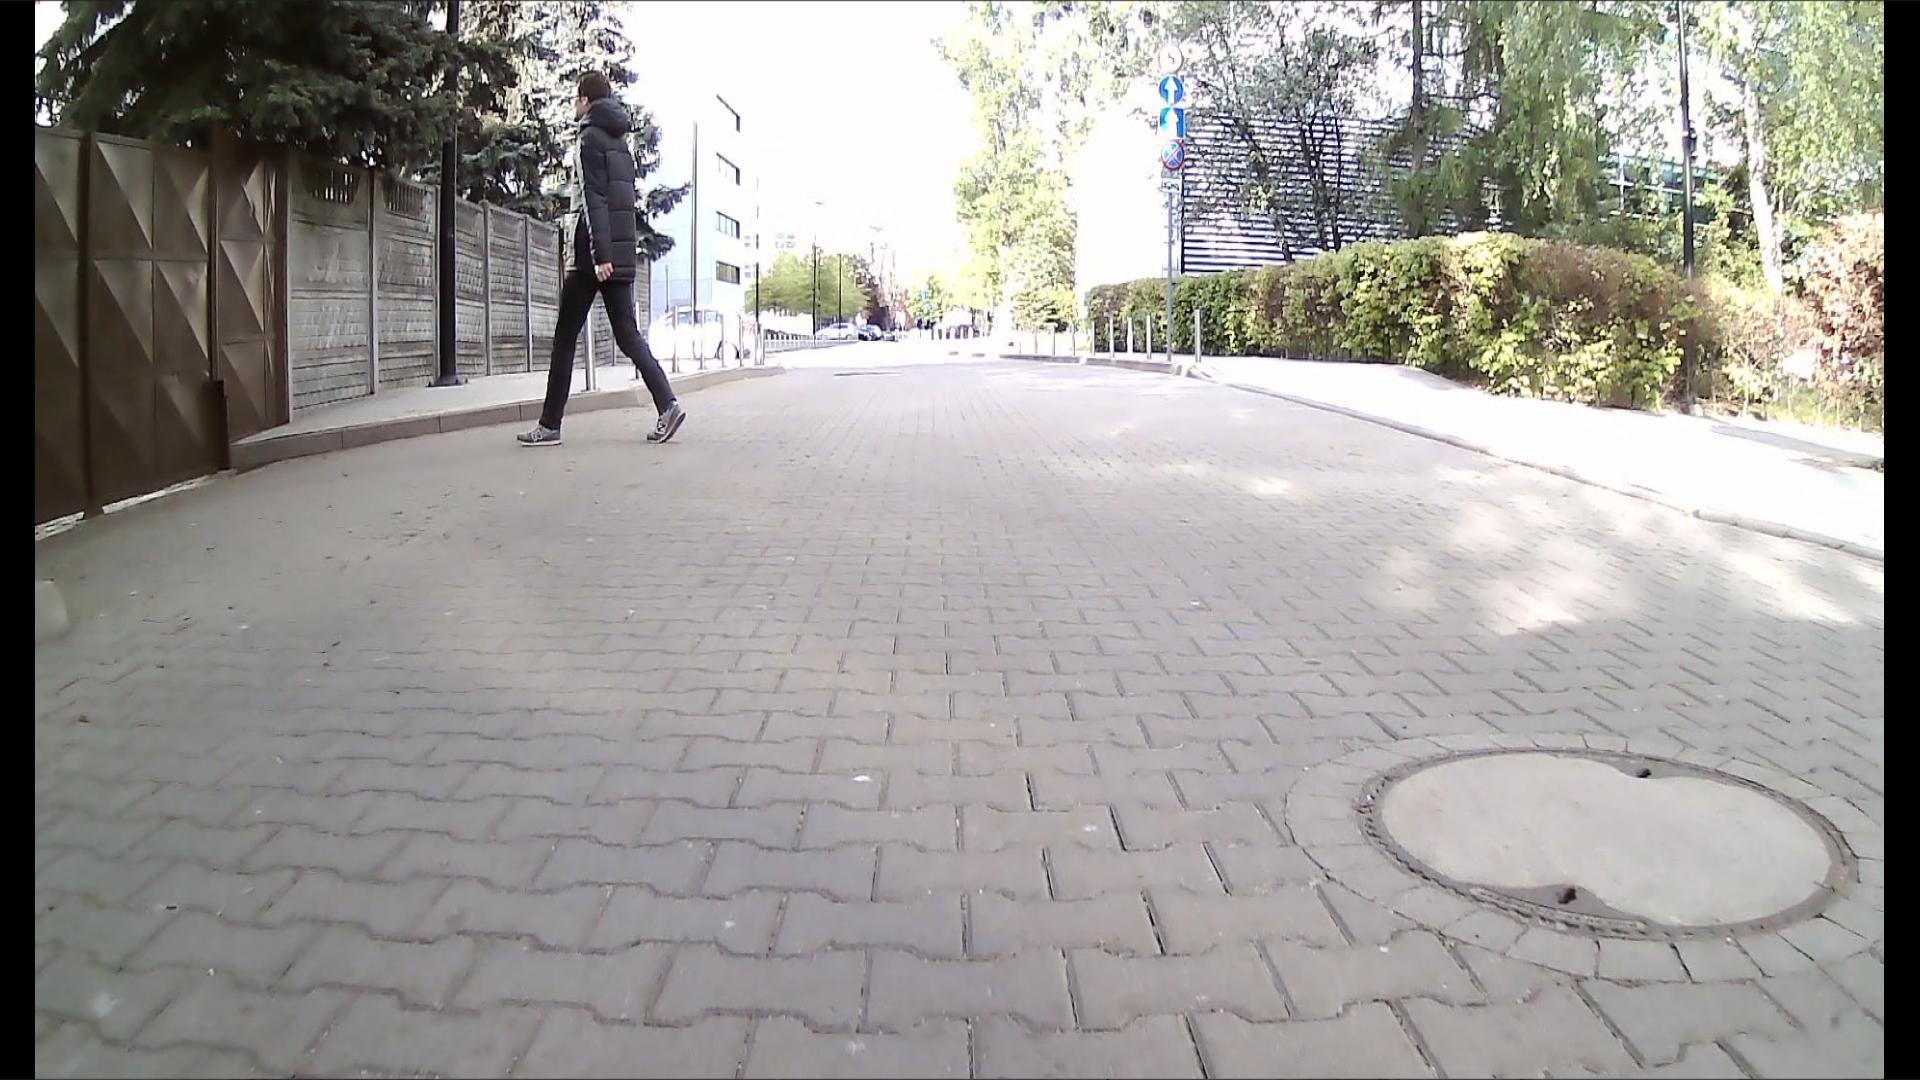person: (504, 52, 695, 477)
